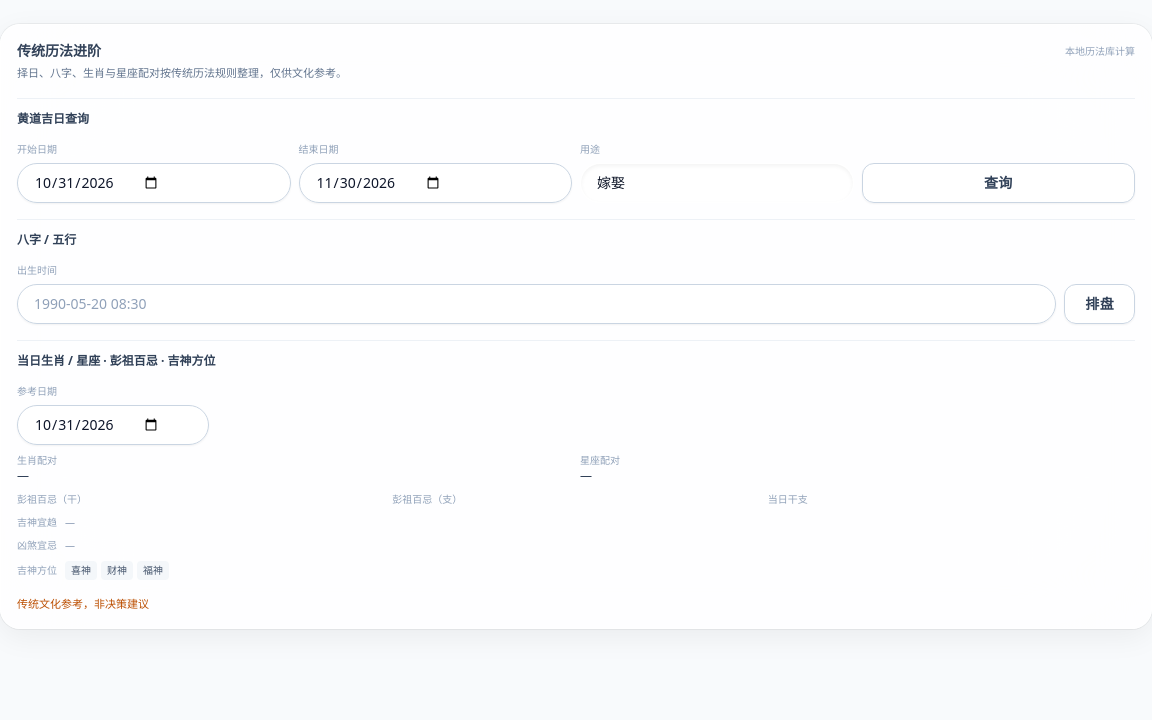
Test: AlmanacAdvancedPanel (plan todo 150) › rejects a malformed birth input with a message and never renders NaN
Type "abc-not-a-date" into the field labelled "出生时间" at (537, 304), box 17,284 -> 1056,324
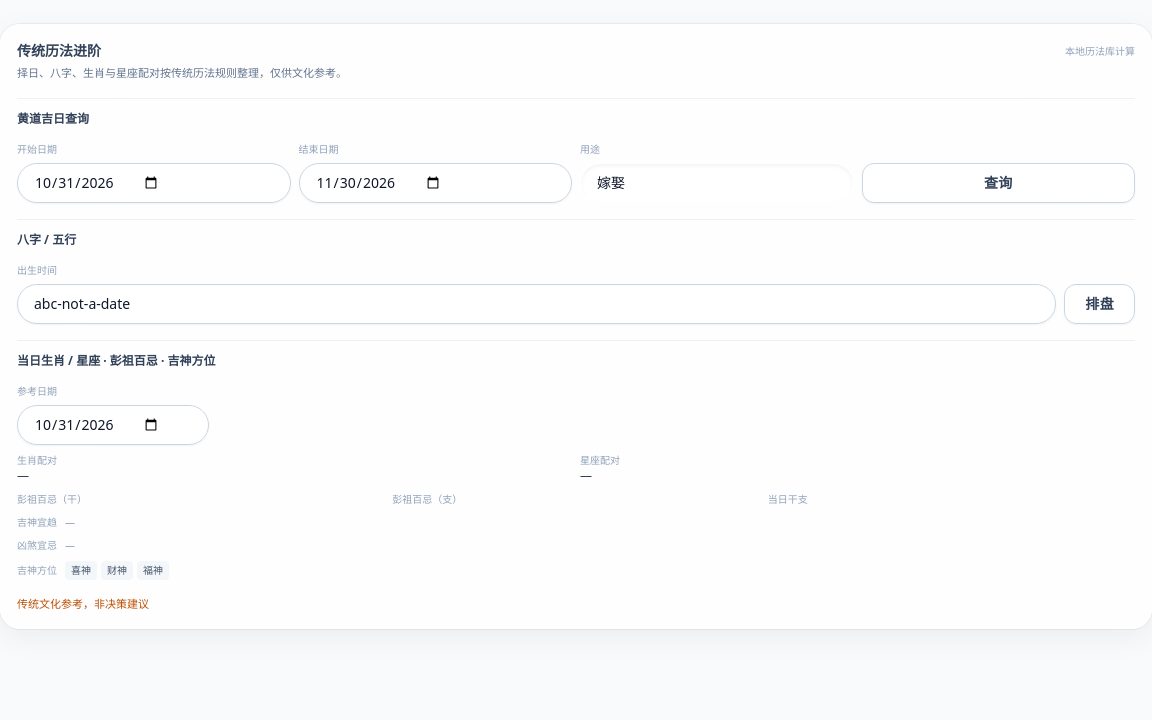
Click the button "排盘" at (1100, 304), box 1064,284 -> 1135,324
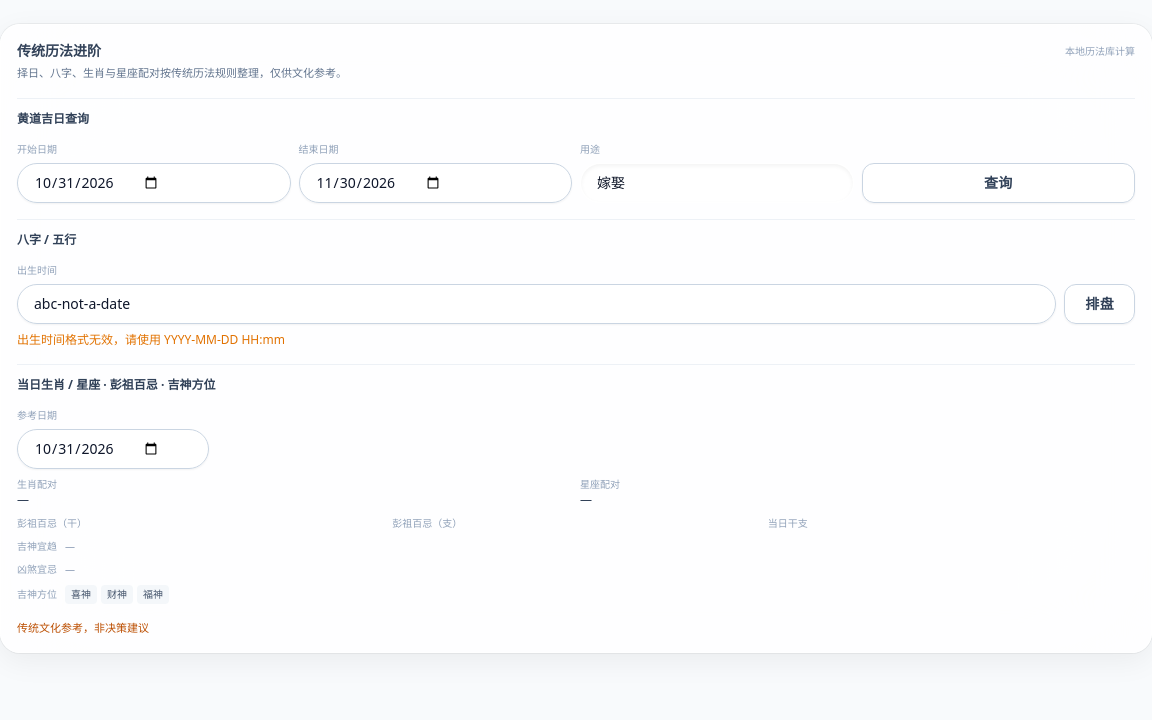
Result: the text with test id "bazi-error" shows "出生时间格式无效" at 17,330 -> 285,348
